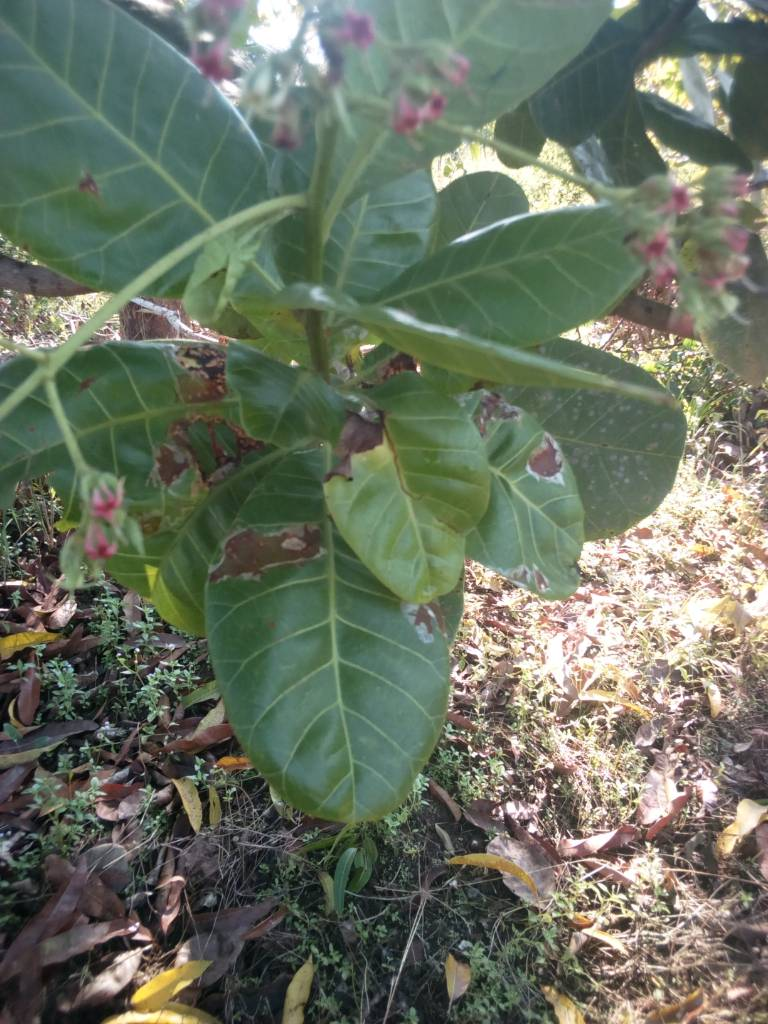Dysdercus wolkerii: (208, 449, 496, 839), (422, 379, 626, 602)
